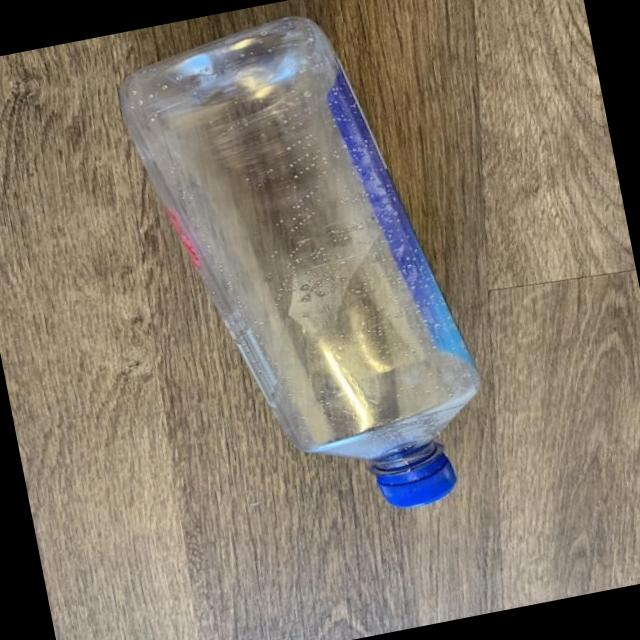plastic_bottle: (110, 0, 504, 549)
